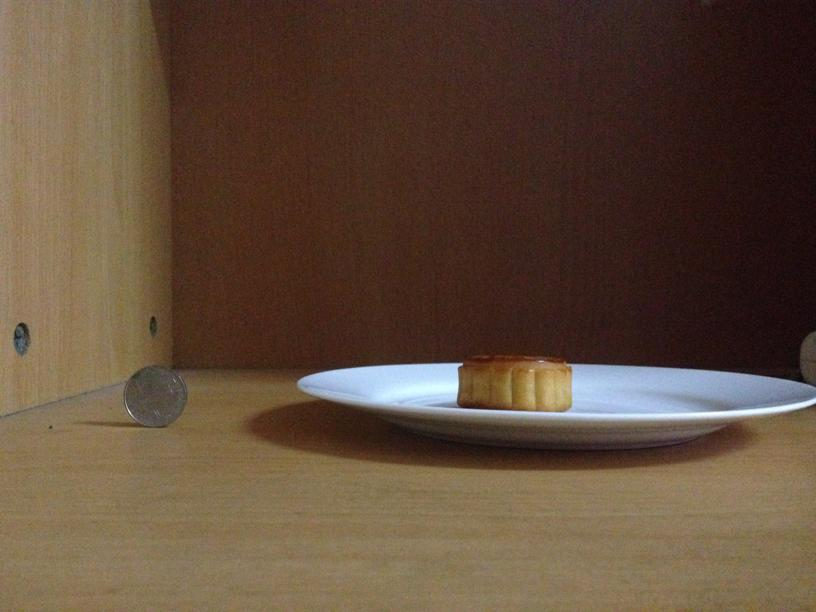coin: (122, 366, 188, 427)
mooncake: (456, 354, 572, 411)
